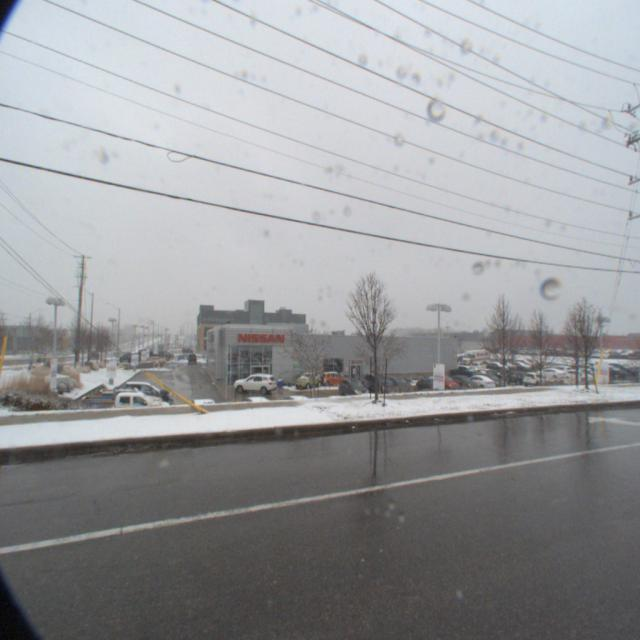Car: (228, 372, 276, 397)
Truck: (459, 348, 491, 366)
